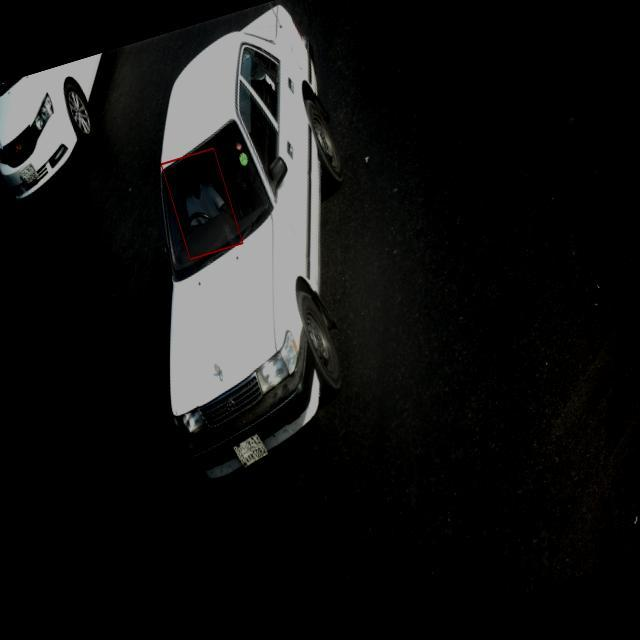windshield: (147, 116, 277, 289)
